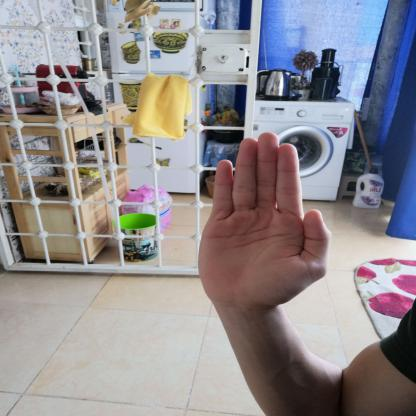SEEN: (183, 124, 340, 322)
